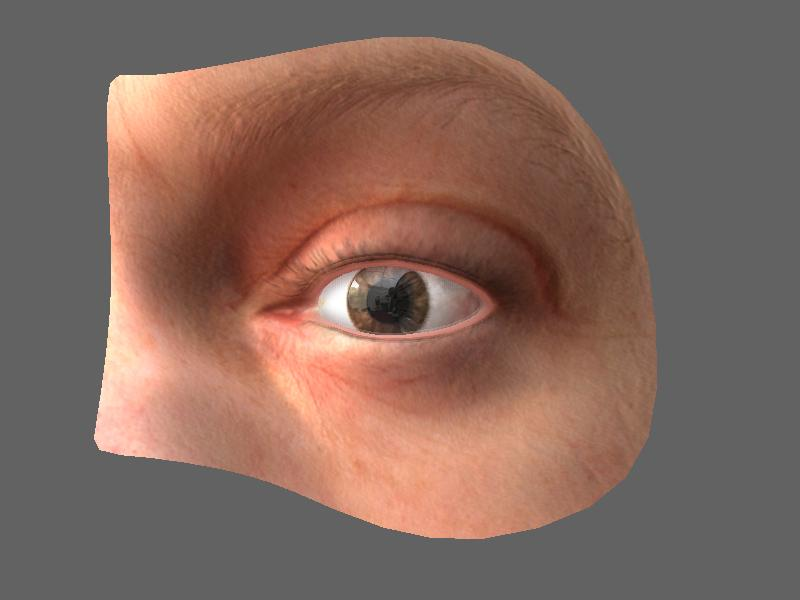iris: (344, 268, 434, 343)
